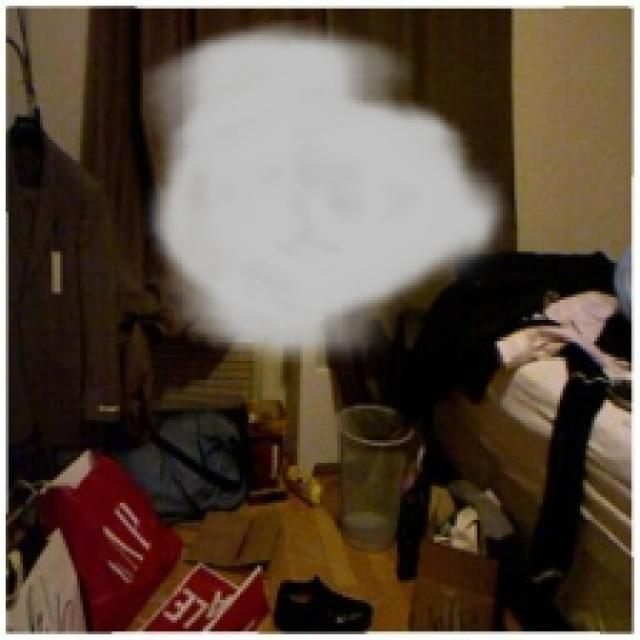smoke: (143, 20, 511, 371)
